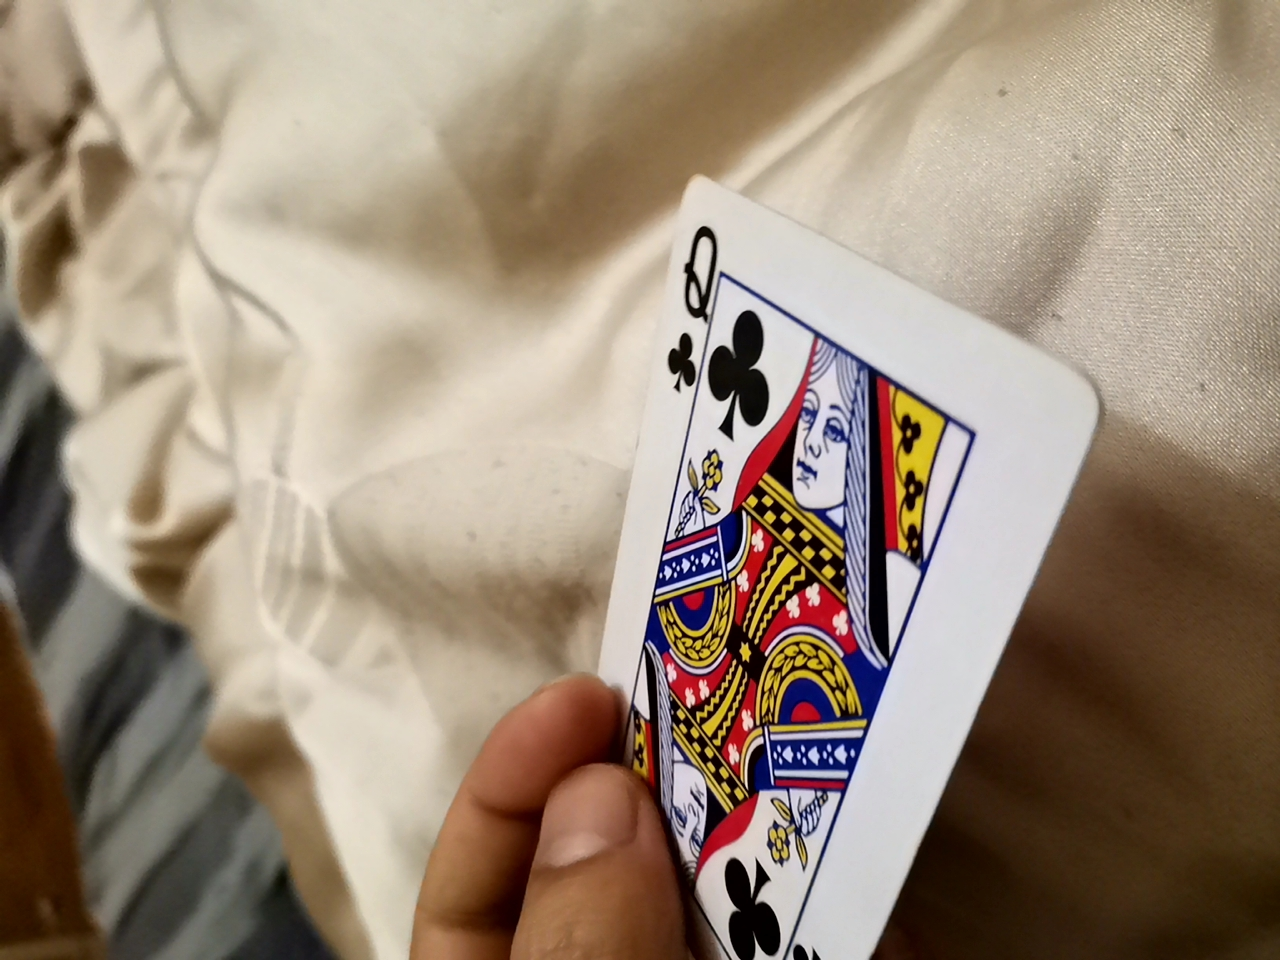mh q: (525, 156, 1110, 938)
